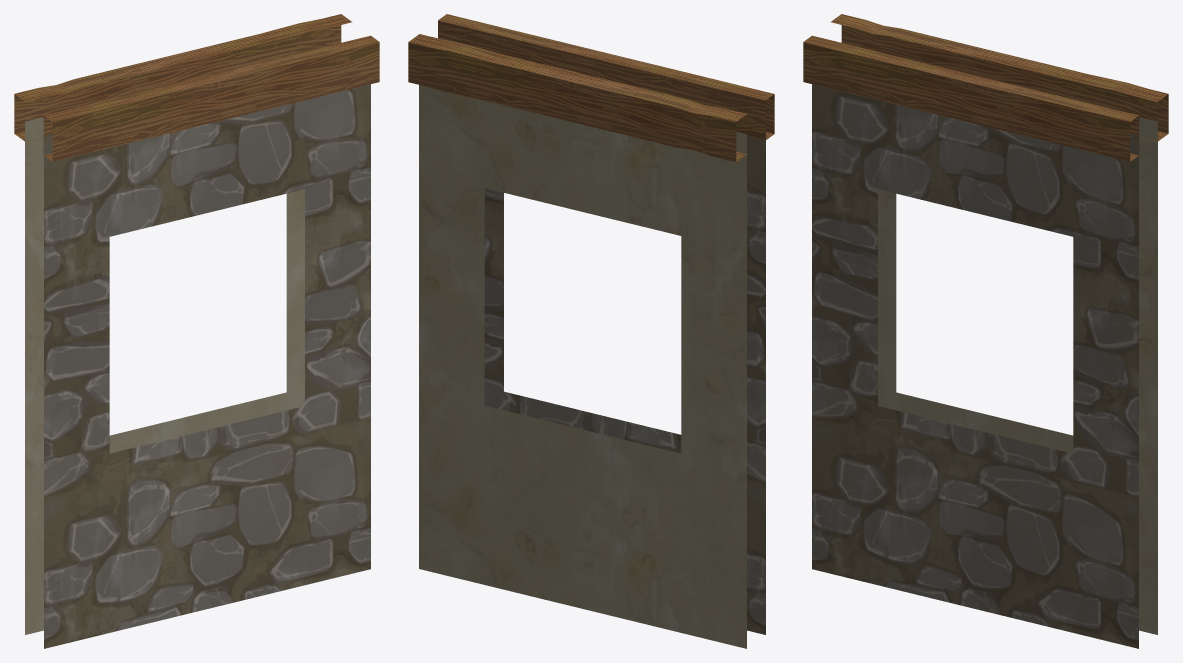
The picture shows the model from 3 angles, left to right: view 1: azimuth 30°, elevation 25°; view 2: azimuth 150°, elevation 25°; view 3: azimuth 330°, elevation 25°; orthographic projection.
Visible parts, largest first — view 1: f32ab7cfadf6aa36986bff416baf3e8ae141727ebe59abad63e16f3c51c5; view 2: f32ab7cfadf6aa36986bff416baf3e8ae141727ebe59abad63e16f3c51c5; view 3: f32ab7cfadf6aa36986bff416baf3e8ae141727ebe59abad63e16f3c51c5.
Boxes of the visible parts, x1=… form: f32ab7cfadf6aa36986bff416baf3e8ae141727ebe59abad63e16f3c51c5: x1=14, y1=14, x2=379, y2=648; f32ab7cfadf6aa36986bff416baf3e8ae141727ebe59abad63e16f3c51c5: x1=408, y1=14, x2=774, y2=648; f32ab7cfadf6aa36986bff416baf3e8ae141727ebe59abad63e16f3c51c5: x1=803, y1=14, x2=1168, y2=648.
Bounding box in the file's own units: 2 × 3.12 × 0.4065.
Materials: 3 (3 with a texture image).
